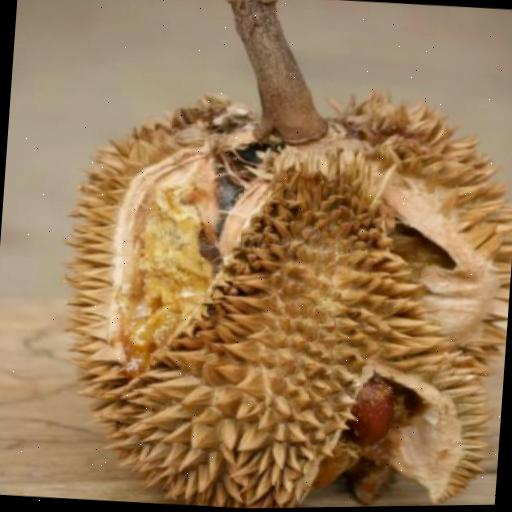mold: (15, 0, 512, 512)
